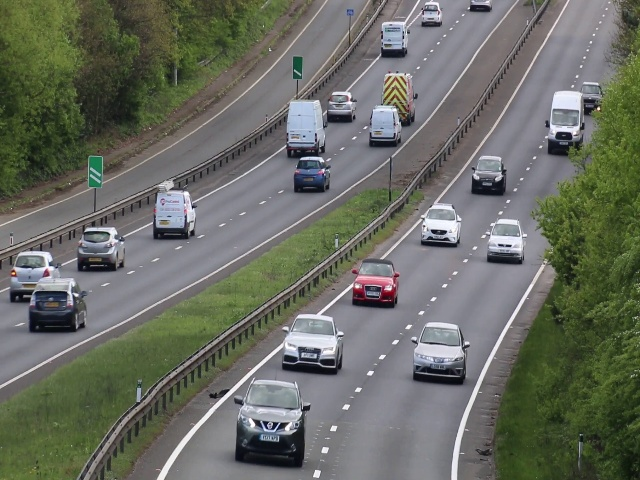car: (237, 376, 306, 468), (281, 311, 345, 375), (412, 320, 467, 386), (29, 275, 86, 336), (10, 250, 62, 302), (350, 257, 399, 308), (76, 225, 127, 273), (285, 99, 325, 160), (550, 87, 583, 158), (484, 213, 528, 265), (153, 192, 197, 239), (419, 203, 461, 247), (382, 72, 417, 122), (367, 105, 402, 146), (294, 154, 331, 191), (471, 156, 507, 193), (379, 18, 410, 57), (579, 79, 605, 116), (327, 91, 357, 122), (421, 2, 442, 26)
